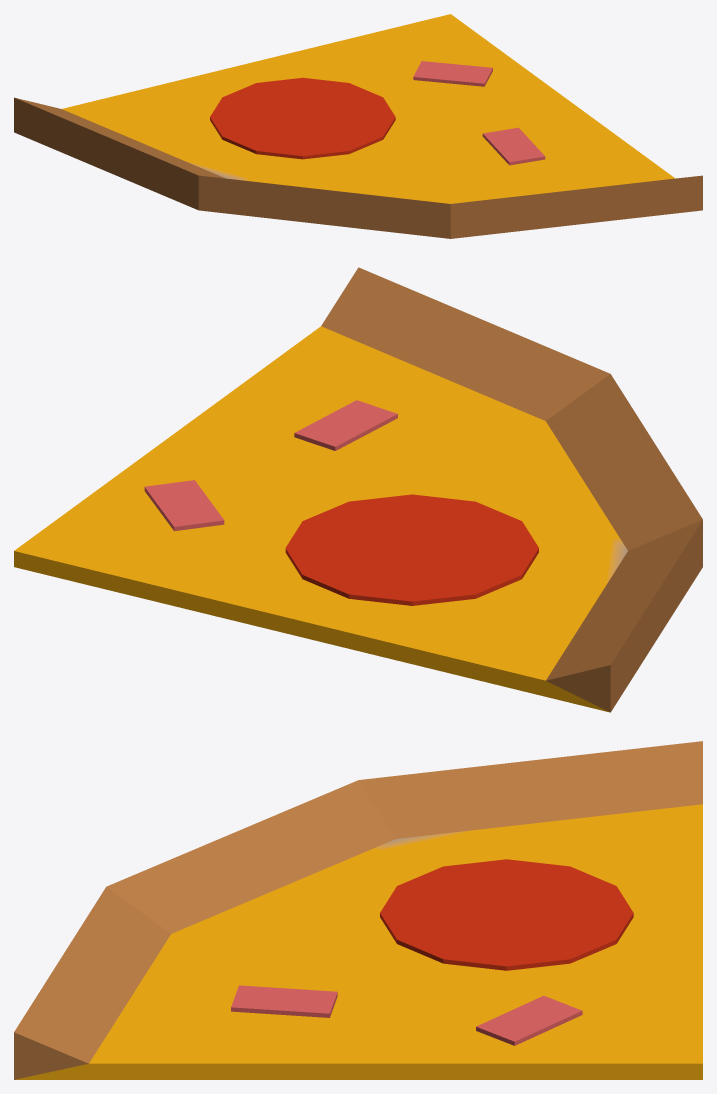
File: pizza_slide.obj
3 views of the same model, one above another, from view 1: azimuth 30°, elevation 25°; view 2: azimuth 150°, elevation 25°; view 3: azimuth 270°, elevation 25° (orthographic). The views are drawn at different scales.
Parts seen in each view (by area): view 1: Cylinder.001_Mesh; view 2: Cylinder.001_Mesh; view 3: Cylinder.001_Mesh.
Part boxes in pixels (x1,y1,x2,y2): Cylinder.001_Mesh: (14, 14, 702, 238); Cylinder.001_Mesh: (14, 267, 702, 712); Cylinder.001_Mesh: (14, 741, 702, 1079).
Size of the model in its own units: 0.1487 by 0.0113 by 0.1487.
